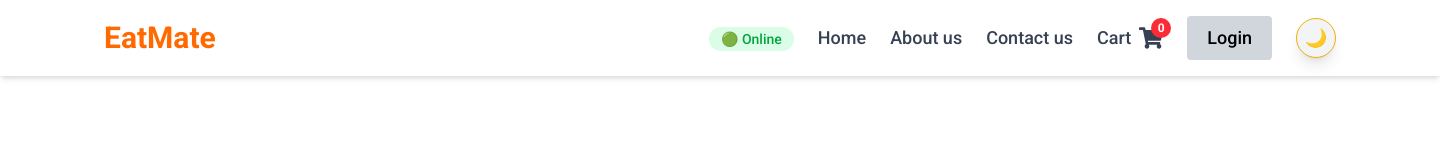
it: All Test cases for header components › Should change login to logout when button Clicked
The width and height of the screenshot is (1440, 160).
Click the list item "Login": point(1230, 38) top-left (1187, 16), bottom-right (1272, 60)
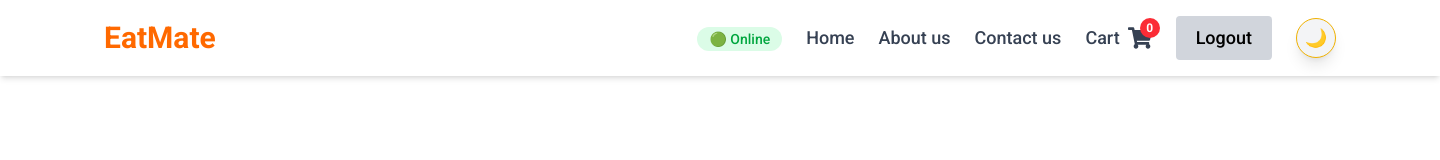
Expected: the list item "Logout" is shown, top-left (1176, 16), bottom-right (1272, 60)
